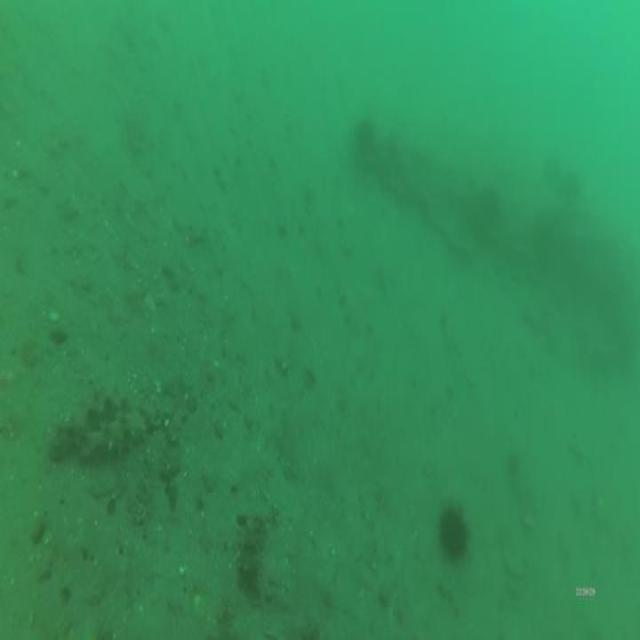echinus: (440, 507, 468, 558)
holothurian: (46, 396, 131, 462), (85, 406, 160, 460), (237, 507, 267, 596)
